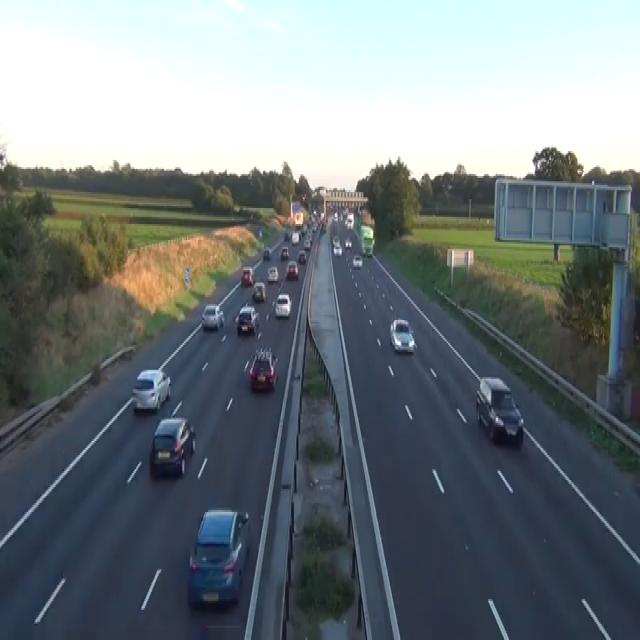Car: (187, 507, 250, 608), (475, 375, 523, 446), (149, 416, 196, 476), (131, 368, 171, 411), (249, 347, 278, 391), (389, 318, 415, 352), (235, 304, 259, 336), (201, 304, 224, 329), (274, 292, 292, 316), (251, 281, 266, 302), (241, 267, 254, 286), (285, 260, 298, 279), (267, 265, 278, 283), (352, 252, 362, 268), (279, 246, 289, 260), (363, 242, 373, 256), (333, 242, 342, 256), (298, 249, 306, 263), (263, 247, 271, 260), (344, 236, 352, 249), (291, 231, 299, 244), (303, 238, 311, 249), (332, 235, 340, 245), (301, 192, 307, 204), (301, 224, 307, 236), (283, 231, 289, 240), (333, 210, 338, 220), (322, 222, 326, 233), (258, 228, 262, 238), (298, 230, 303, 238)
Truck: (359, 224, 374, 256), (294, 210, 303, 226)
